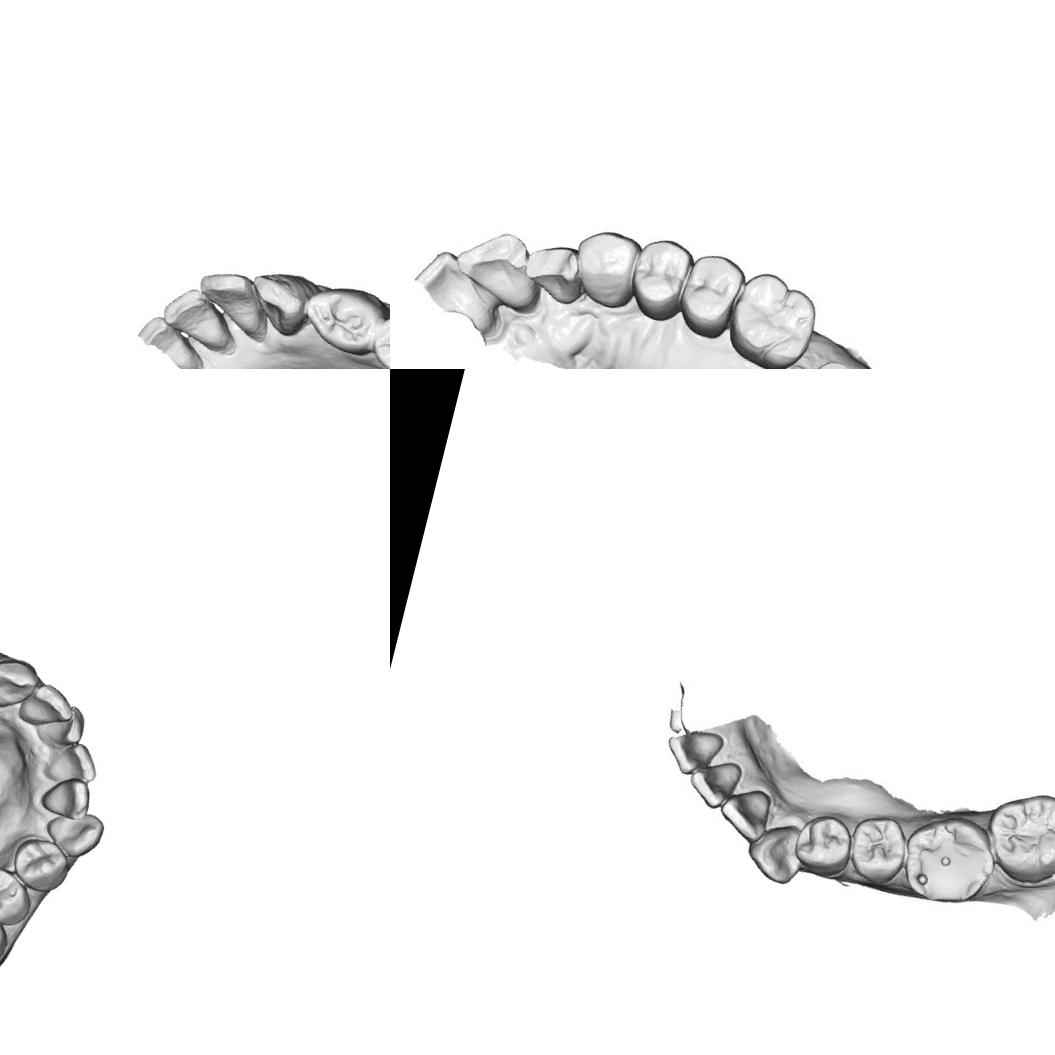canine: (569, 225, 640, 310), (242, 261, 316, 339), (741, 814, 812, 888), (40, 802, 107, 862), (0, 653, 42, 714)
implant: (801, 349, 867, 369)
incisor: (448, 220, 546, 312), (188, 265, 274, 342), (154, 280, 238, 353), (514, 233, 589, 305), (714, 779, 778, 847), (661, 720, 725, 781), (688, 750, 744, 812), (38, 771, 95, 822), (21, 678, 76, 730), (48, 736, 103, 786), (42, 700, 90, 754)
molar: (715, 263, 826, 369), (896, 806, 1003, 914), (977, 784, 1055, 890)
premolar: (670, 246, 748, 344), (298, 281, 386, 361), (622, 234, 694, 326), (844, 812, 913, 882), (789, 808, 854, 877), (7, 832, 74, 896), (0, 861, 38, 930), (364, 305, 390, 369)
